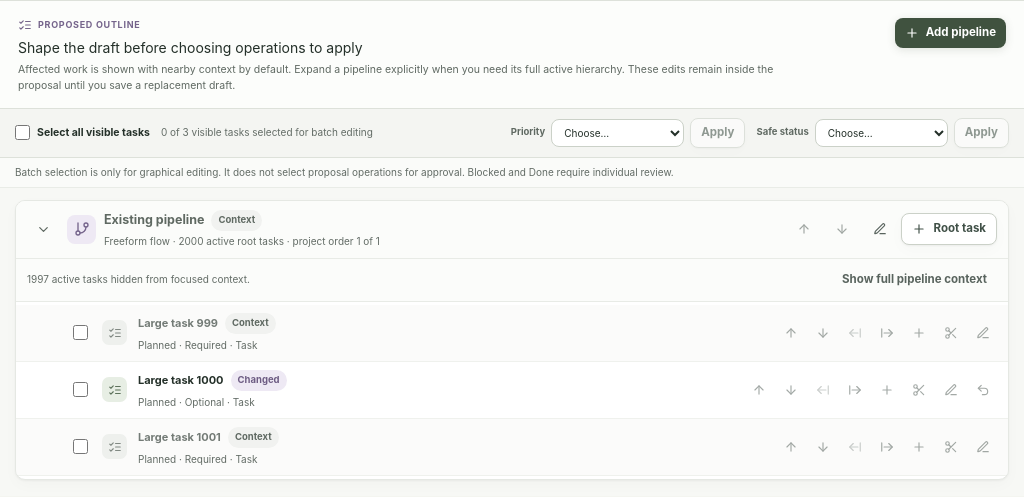
Test: ProposedOutline accessibility and pipeline controls › bounds a 2,000-task pipeline to affected and adjacent rows and selects only visible tasks
Expected: the text "1997 active tasks hidden from focused context." is shown, 27,272 -> 250,287
Expected: the button "Show full pipeline context" is shown, 832,264 -> 997,294
What coordinates should you click on to do the following:
click the checkbox labelled "Select all visible tasks"
I would click on:
 (22, 132)
Its box is 15,125 -> 30,140.
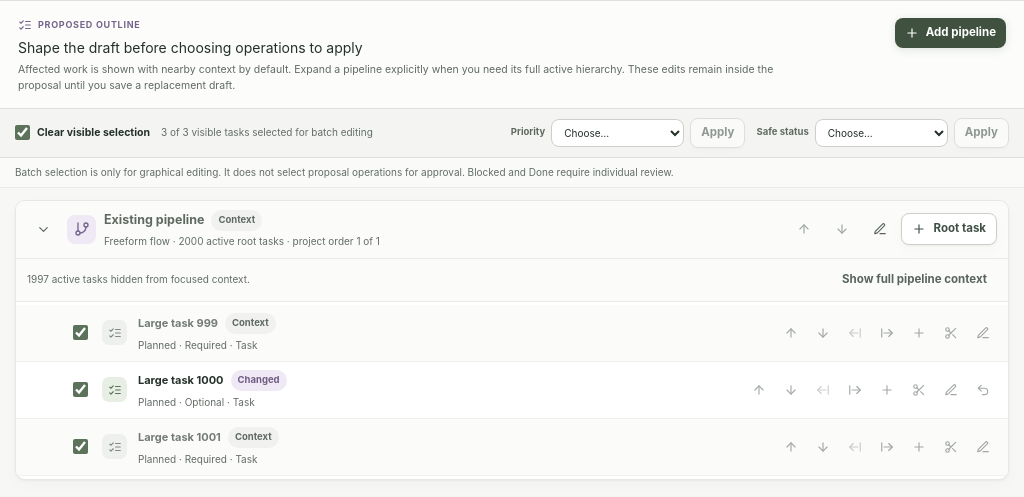
Expected: the number of checkboxes named "for batch editing" is 3, 72,325 -> 88,340; 72,382 -> 88,397; 72,439 -> 88,454
Expected: the text "3 of 3 visible tasks selected for batch editing" is shown, 161,125 -> 373,140
